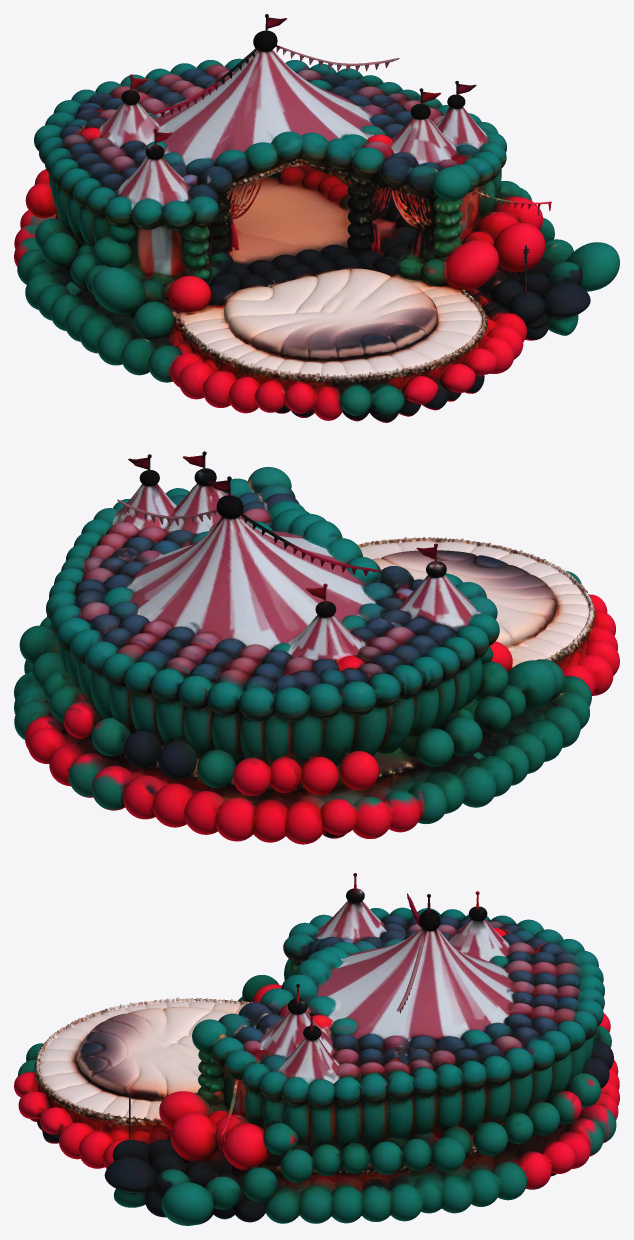
The model's file is 马戏团.glb.
3 renders of one model, top to bottom at view 1: azimuth 30°, elevation 25°; view 2: azimuth 150°, elevation 25°; view 3: azimuth 270°, elevation 25°, orthographic. The views are drawn at different scales.
Visible parts, largest first — view 1: node_0; view 2: node_0; view 3: node_0.
Boxes of the visible parts, <box> form: node_0: <box>14,14,619,422</box>; node_0: <box>14,451,619,844</box>; node_0: <box>14,873,619,1225</box>.
Bounding box in the file's own units: 0.9489 × 0.4715 × 1.07.
Materials: 1 (1 with a texture image).
